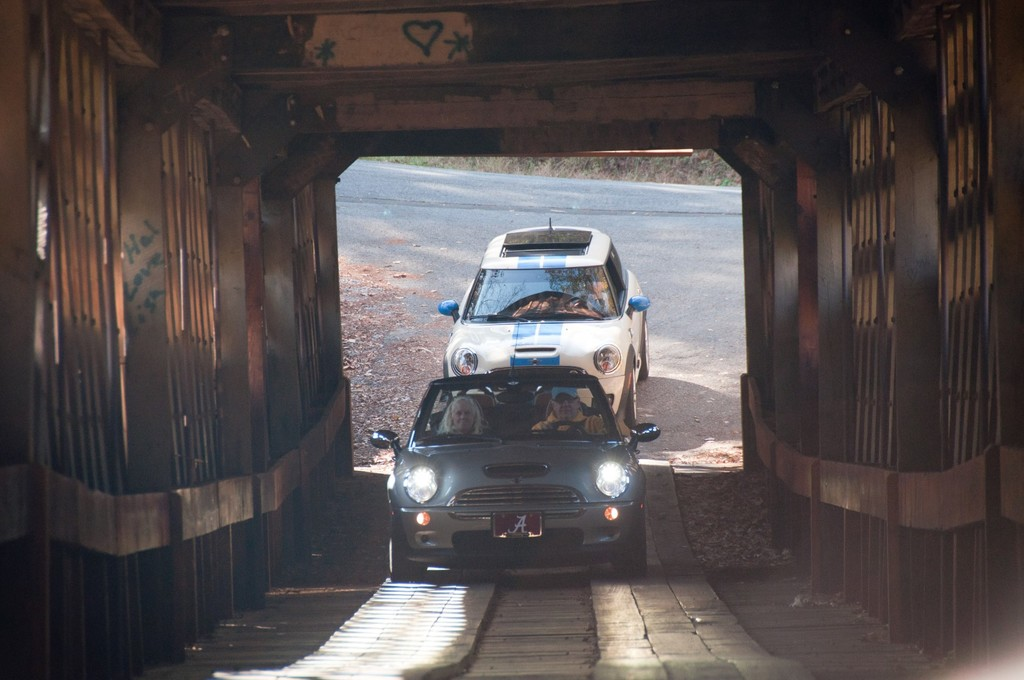mobil: (387, 372, 656, 577)
